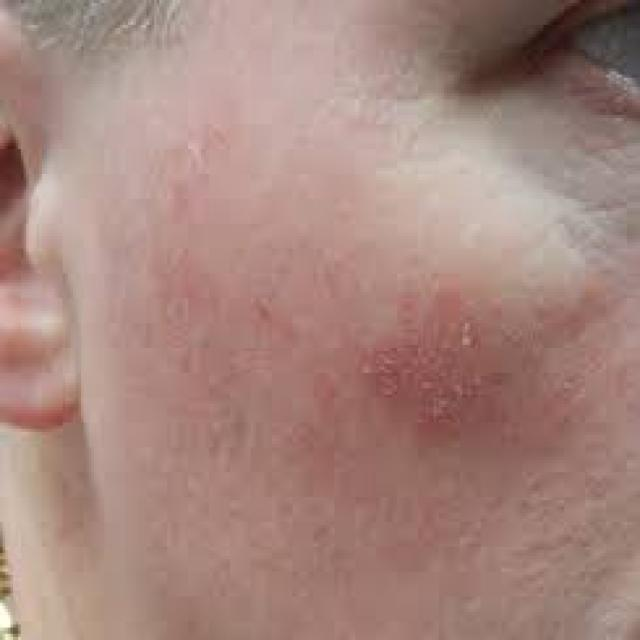Rosacea: (253, 283, 597, 455)
